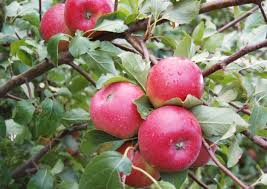apple: (139, 111, 200, 166), (91, 80, 144, 134), (150, 55, 198, 112), (64, 1, 112, 34), (39, 6, 74, 42)
